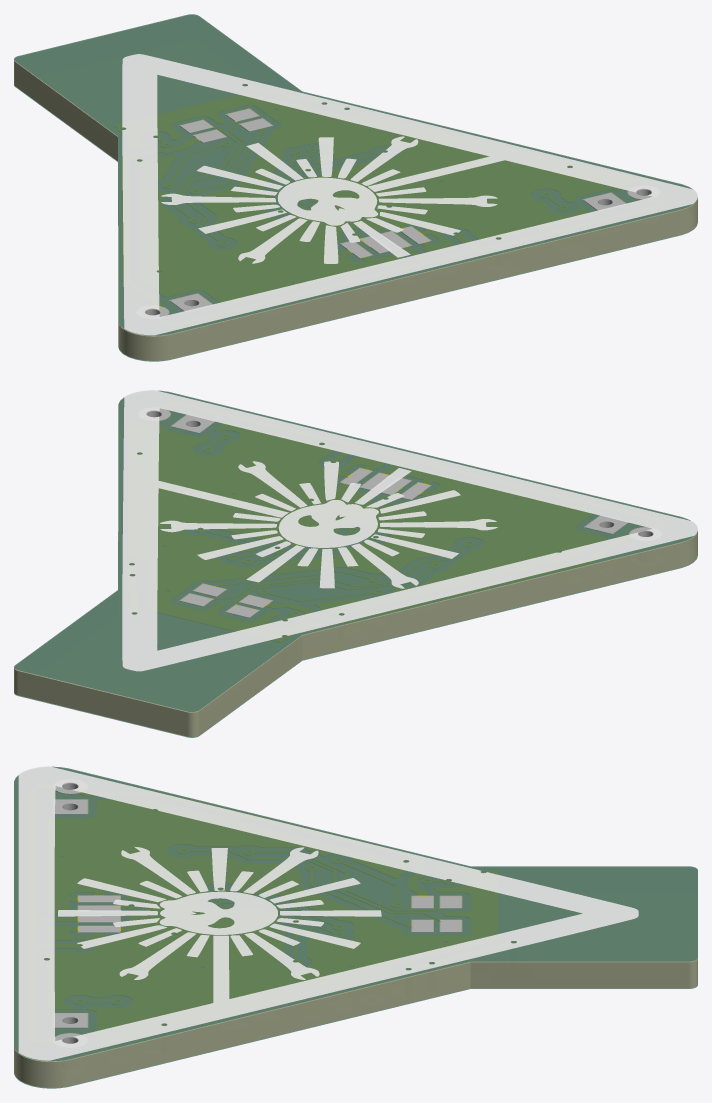
Rendered from shirtty-addon.glb.
The picture shows the model from 3 angles, top to bottom: view 1: azimuth 30°, elevation 25°; view 2: azimuth 150°, elevation 25°; view 3: azimuth 270°, elevation 25°; orthographic projection. The views are drawn at different scales.
Visible parts, largest first — view 1: =>[0:1:1:7], =>[0:1:1:5], =>[0:1:1:9], =>[0:1:1:2]; view 2: =>[0:1:1:7], =>[0:1:1:5], =>[0:1:1:9], =>[0:1:1:2]; view 3: =>[0:1:1:7], =>[0:1:1:5], =>[0:1:1:9], =>[0:1:1:2].
Boxes of the visible parts, box(x1,y1,x2,y2) form: =>[0:1:1:7]: box(14, 14, 697, 361); =>[0:1:1:5]: box(122, 54, 697, 335); =>[0:1:1:9]: box(14, 15, 697, 360); =>[0:1:1:2]: box(115, 84, 652, 316); =>[0:1:1:7]: box(14, 390, 697, 737); =>[0:1:1:5]: box(122, 390, 697, 671); =>[0:1:1:9]: box(14, 393, 697, 736); =>[0:1:1:2]: box(129, 408, 653, 641); =>[0:1:1:7]: box(14, 766, 697, 1088); =>[0:1:1:5]: box(18, 766, 638, 1060); =>[0:1:1:9]: box(14, 768, 697, 1087); =>[0:1:1:2]: box(44, 782, 515, 1043).
Bounding box in the file's own units: 0.0371 × 0.00166 × 0.0364.
Materials: 4 (4 with a texture image).
